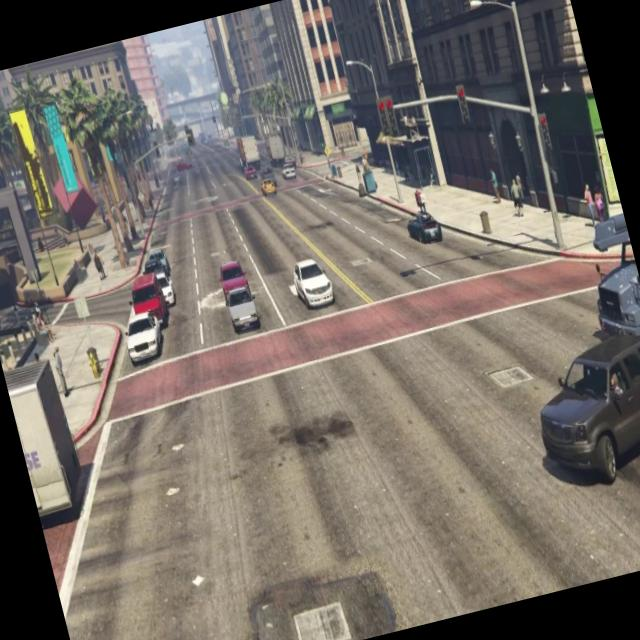Red-Signal: (370, 86, 406, 148), (448, 76, 477, 131), (533, 106, 558, 158)
